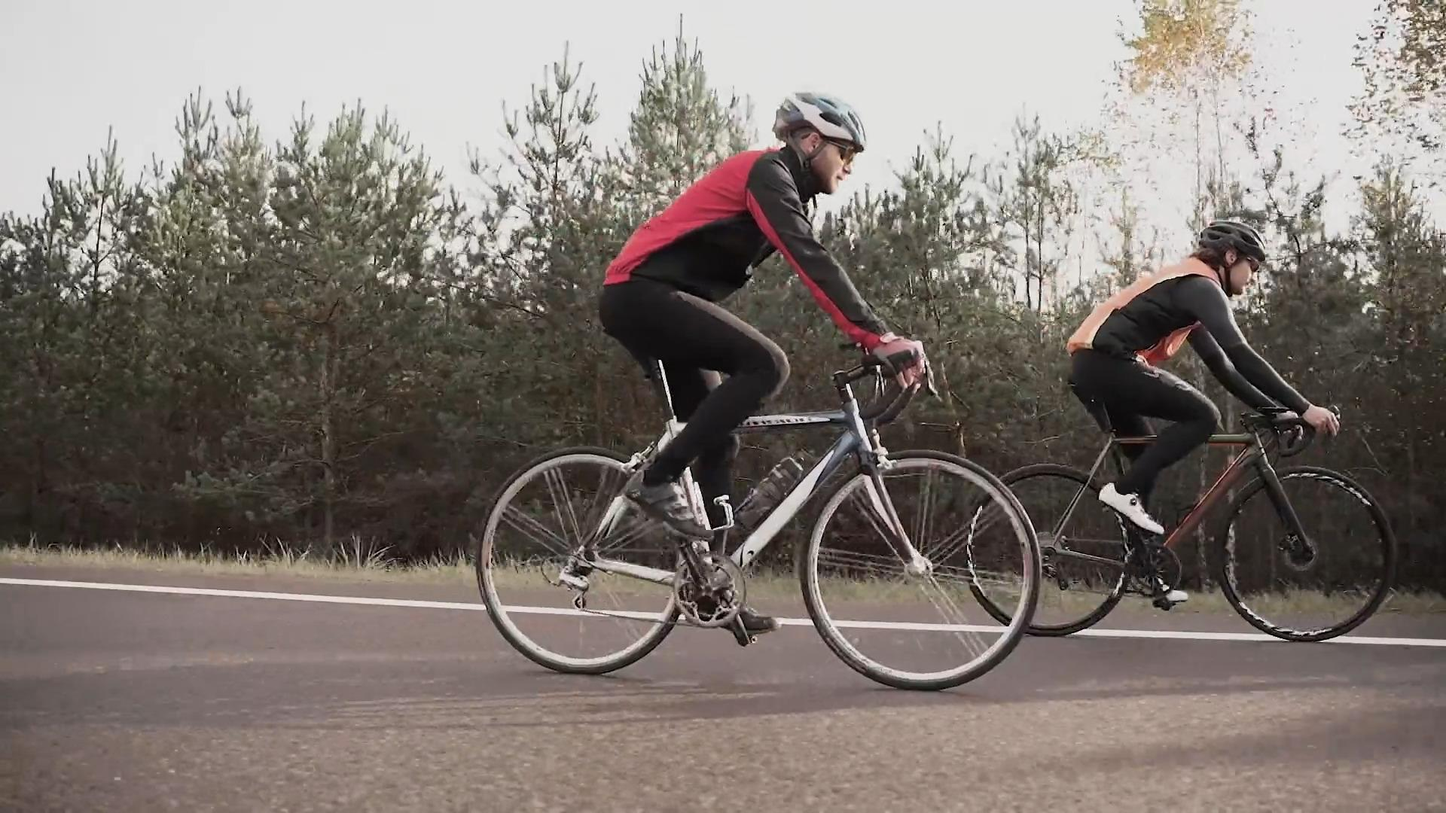bicyclist: (473, 92, 1044, 691), (960, 217, 1398, 645)
helmet: (772, 91, 867, 196), (1198, 220, 1266, 298)
